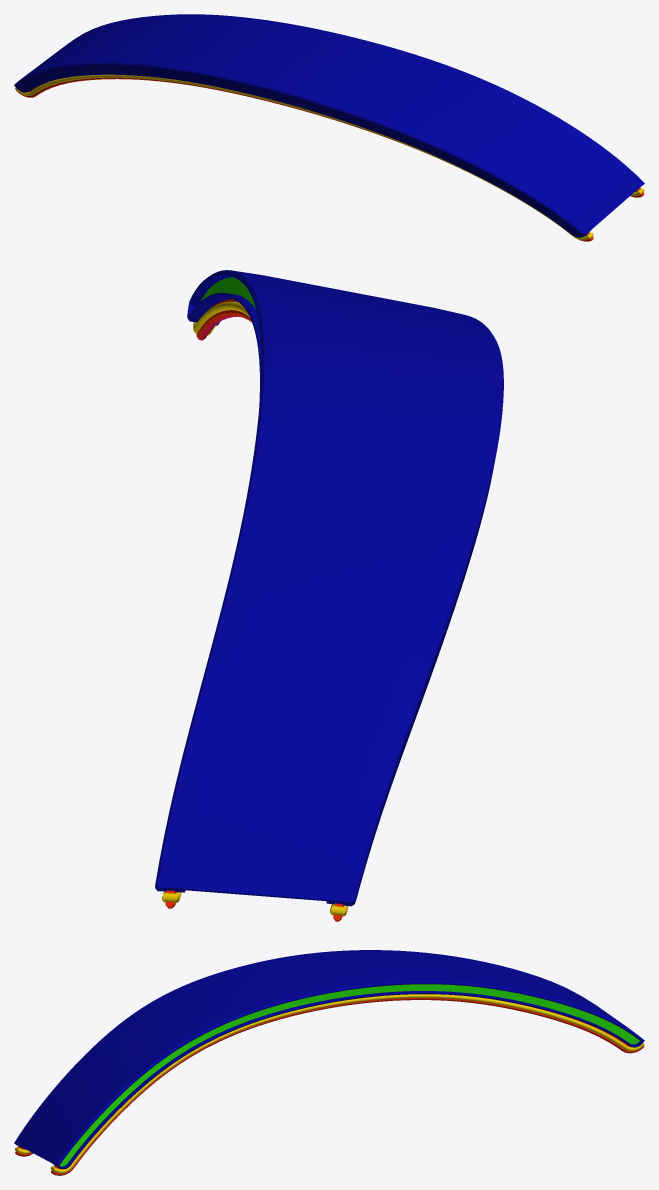
File: RailFinal.fbx
3 renders of one model, top to bottom at view 1: azimuth 30°, elevation 25°; view 2: azimuth 150°, elevation 25°; view 3: azimuth 270°, elevation 25°, orthographic. The views are drawn at different scales.
Parts seen in each view (by area): view 1: RailFinal; view 2: RailFinal; view 3: RailFinal.
Boxes of the visible parts, x1,y1,x2,y2 form: RailFinal: [14, 14, 644, 241]; RailFinal: [155, 270, 503, 921]; RailFinal: [14, 950, 644, 1175].
Size of the model in its own units: 378 by 123 by 586.
